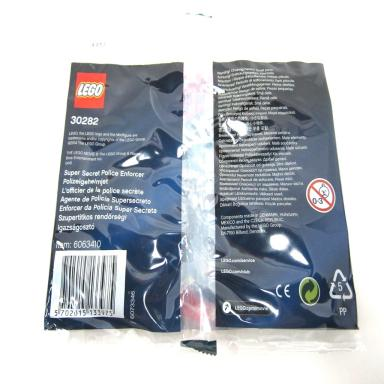plasticbag: (39, 60, 366, 358)
